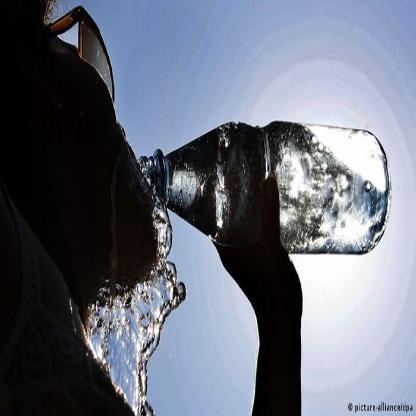bottle: (135, 88, 400, 318)
